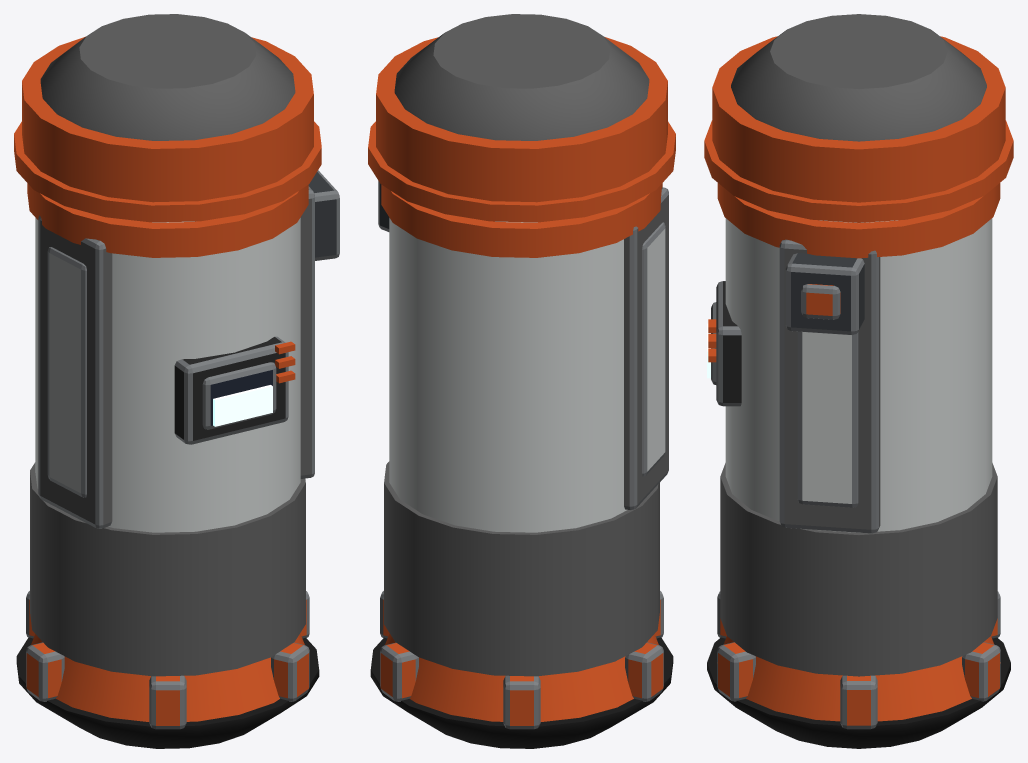
Rendered from oxygen_tank.fbx.
3 renders of one model, left to right at view 1: azimuth 30°, elevation 25°; view 2: azimuth 150°, elevation 25°; view 3: azimuth 270°, elevation 25°, orthographic.
Parts seen in each view (by area): view 1: Mesh_OxygenTank_Body, Mesh_OxygenTank_Cap, Mesh_OxygenTank_Ribs, Mesh_OxygenTank_Skirt, Mesh_OxygenTank_Gauge; view 2: Mesh_OxygenTank_Body, Mesh_OxygenTank_Cap, Mesh_OxygenTank_Skirt, Mesh_OxygenTank_Ribs; view 3: Mesh_OxygenTank_Body, Mesh_OxygenTank_Cap, Mesh_OxygenTank_Ribs, Mesh_OxygenTank_Skirt, Mesh_OxygenTank_Gauge.
Part boxes in pixels (x1,y1,x2,y2): Mesh_OxygenTank_Body: [27, 183, 308, 676]; Mesh_OxygenTank_Cap: [14, 14, 321, 222]; Mesh_OxygenTank_Ribs: [38, 170, 339, 528]; Mesh_OxygenTank_Skirt: [16, 591, 319, 748]; Mesh_OxygenTank_Gauge: [174, 336, 295, 444]; Mesh_OxygenTank_Body: [381, 183, 662, 676]; Mesh_OxygenTank_Cap: [368, 14, 675, 222]; Mesh_OxygenTank_Skirt: [370, 591, 673, 748]; Mesh_OxygenTank_Ribs: [378, 181, 668, 510]; Mesh_OxygenTank_Body: [717, 183, 1000, 676]; Mesh_OxygenTank_Cap: [704, 14, 1013, 222]; Mesh_OxygenTank_Ribs: [779, 239, 880, 533]; Mesh_OxygenTank_Skirt: [707, 591, 1010, 748]; Mesh_OxygenTank_Gauge: [707, 281, 741, 406].
Bounding box in the file's own units: 24.61 × 54.14 × 23.2.
